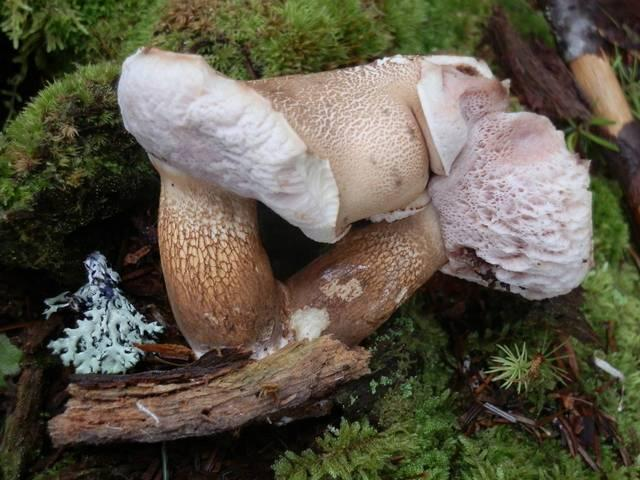poisonous_mushroom: (115, 44, 594, 360)
